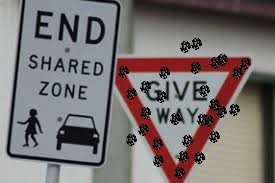giveway: (113, 56, 255, 183), (182, 60, 245, 182), (115, 57, 180, 174), (122, 63, 230, 111)
